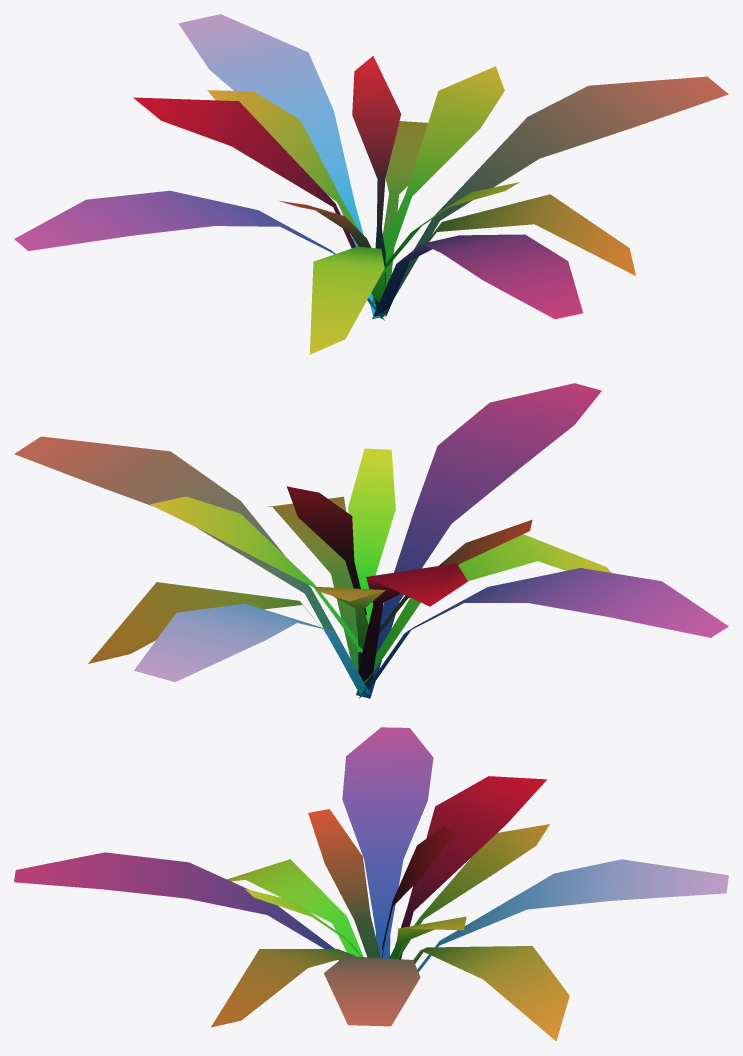
File: Curbside_Weeds_ujzjfexja_Mid_ujzjfexja_VarH_LOD1.fbx
3 renders of one model, top to bottom at view 1: azimuth 30°, elevation 25°; view 2: azimuth 150°, elevation 25°; view 3: azimuth 270°, elevation 25°, orthographic. The views are drawn at different scales.
Parts seen in each view (by area): view 1: _w4yi_VarH_LOD2; view 2: _w4yi_VarH_LOD2; view 3: _w4yi_VarH_LOD2.
Boxes of the visible parts, box(x1,y1,x2,y2) form: _w4yi_VarH_LOD2: box(14, 14, 728, 354); _w4yi_VarH_LOD2: box(14, 383, 728, 698); _w4yi_VarH_LOD2: box(14, 727, 728, 1041).
Size of the model in its own units: 26.76 by 8.38 by 26.76.
